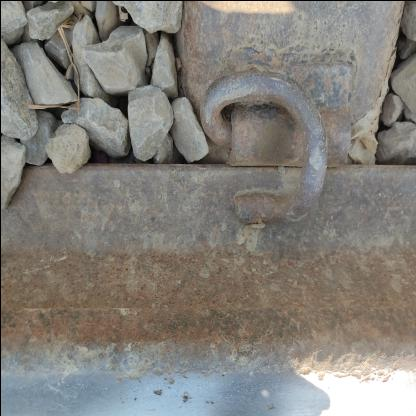Non Defective 1: (52, 116, 258, 367)
